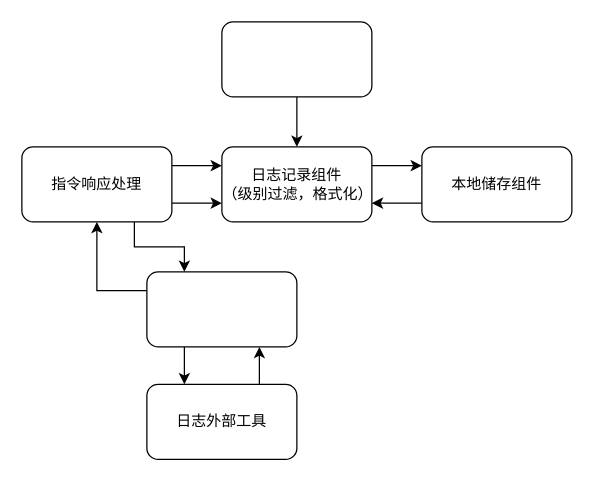
Some shapes in this 594 by 481 pixel diagram are drawn without their labels. The shapes that lost their labels are listed below. From the top down, each one's centre as x and y in pixels, then its label:
At (x=296, y=59): "应用层API".
At (x=221, y=309): "dlt协议解析".
